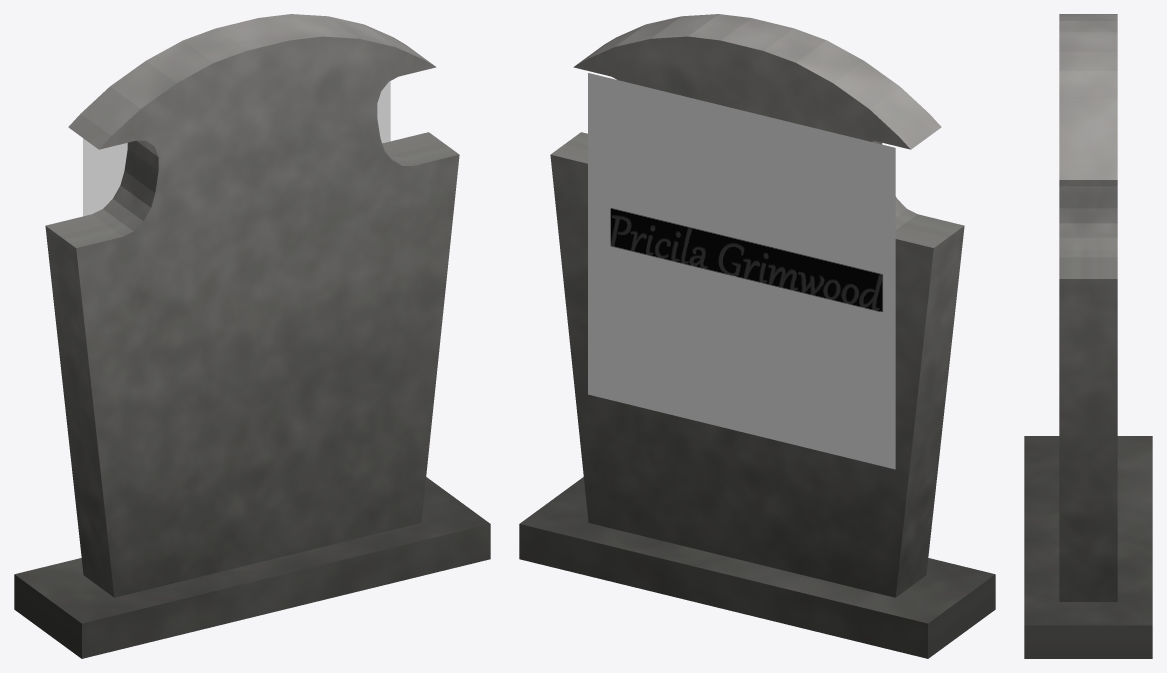
Rendered from tombston_model_06.fbx.
3 views of the same model, side by side, from view 1: azimuth 30°, elevation 25°; view 2: azimuth 150°, elevation 25°; view 3: azimuth 270°, elevation 25° (orthographic). The views are drawn at different scales.
Visible parts, largest first — view 1: Cube.005, Plano.005; view 2: Cube.005, Plano.005; view 3: Cube.005.
Boxes of the visible parts, x1,y1,x2,y2 form: Cube.005: (14,14,490,658); Plano.005: (83,81,390,216); Cube.005: (519,14,995,658); Plano.005: (588,73,895,469); Cube.005: (1024,14,1152,658).
Size of the model in its own units: 0.7 by 0.9 by 0.2.
